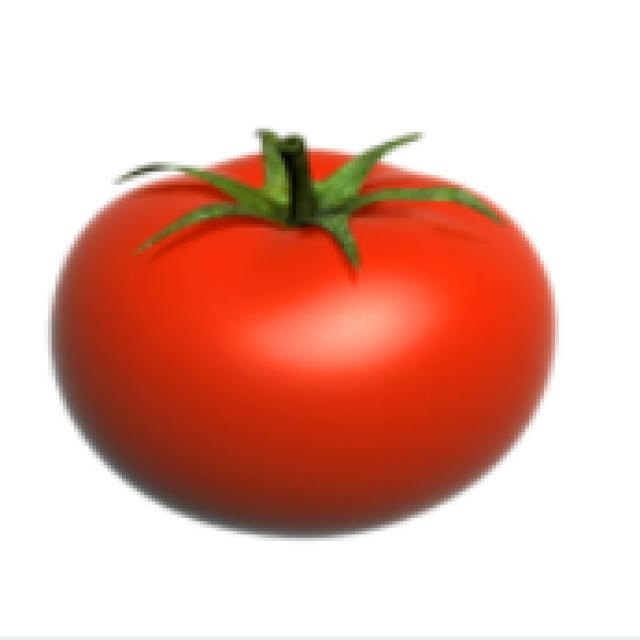Tomato: (50, 112, 593, 572)
